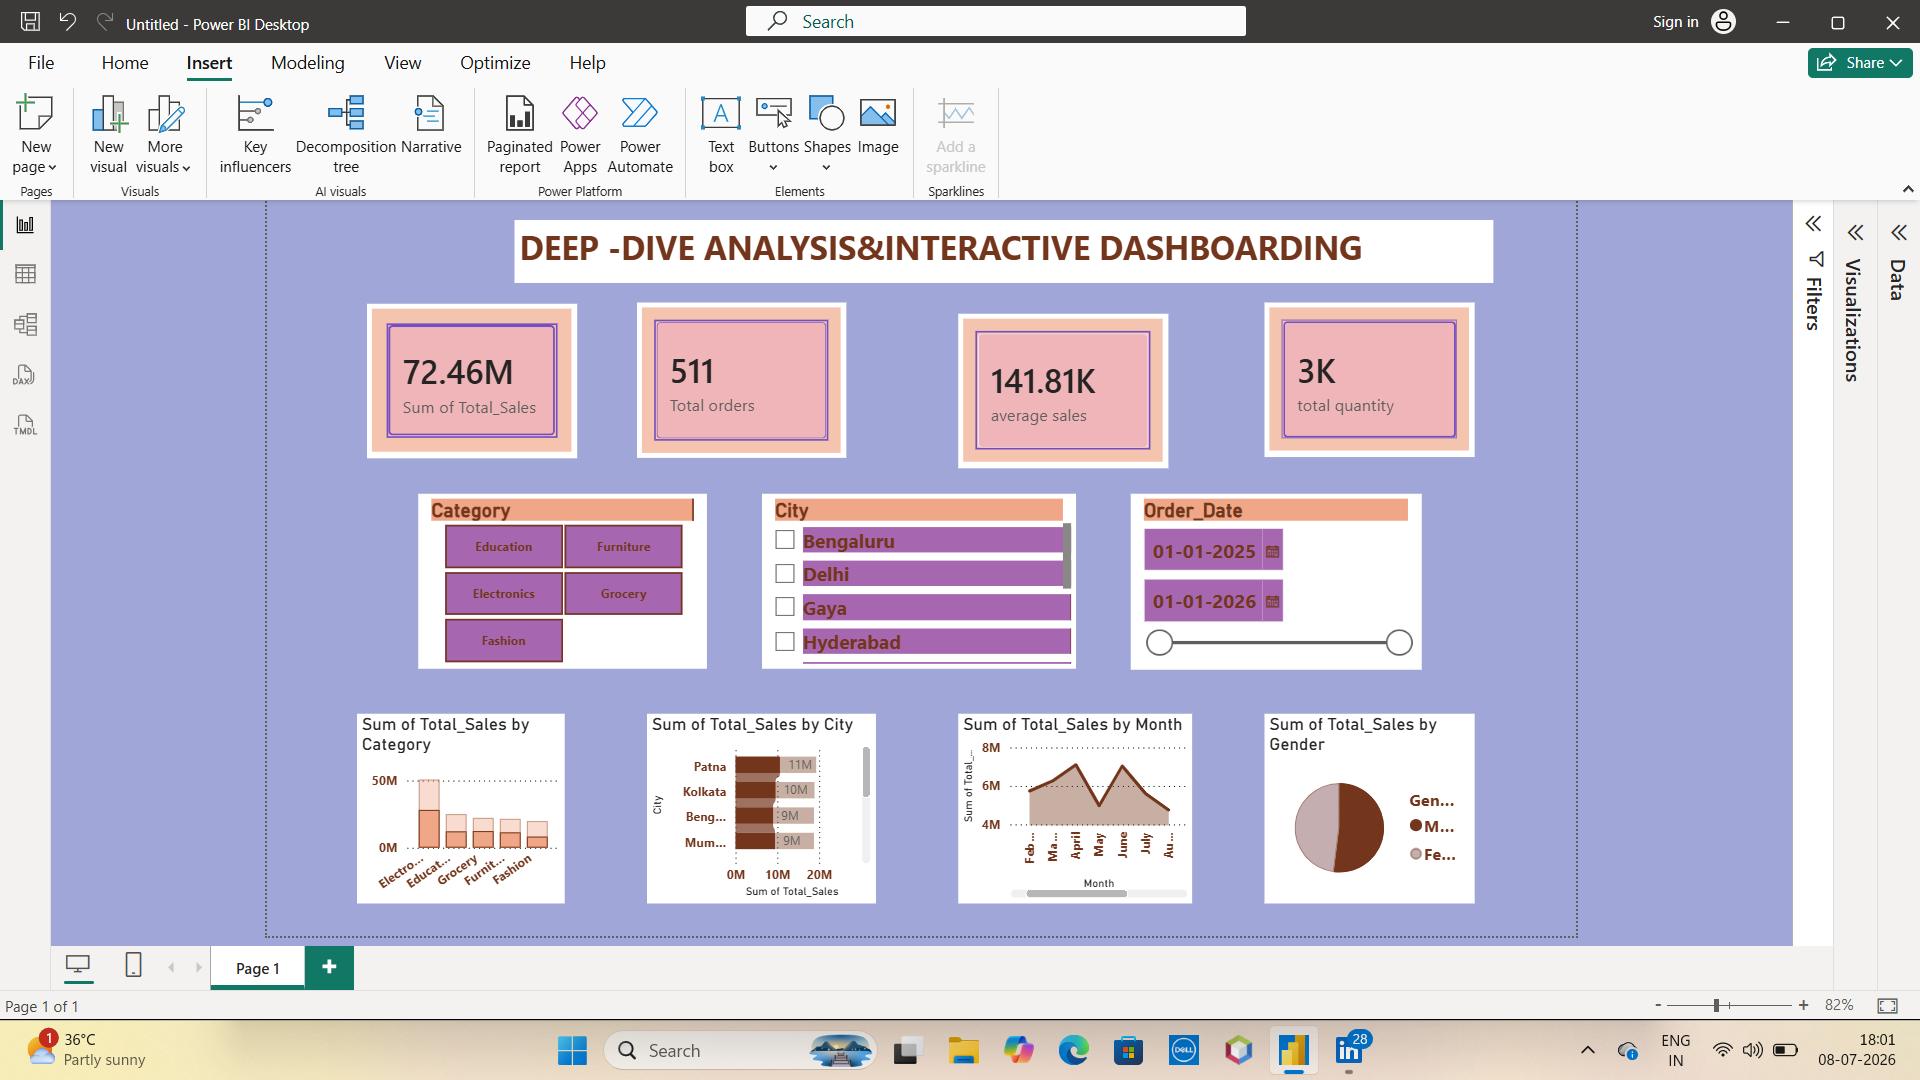

Layout of this report page (visuals, bound fields, positions):
{"tool":"powerbi","page":{"name":"Page 1","canvas":[1280,720],"ordinal":0},"visuals":[{"type":"cardVisual","fields":{"Data":["Sum(Sales_Dataset.Total_Sales)"]},"box":[106.4,102.7,183.4,150.4],"z":0},{"type":"cardVisual","fields":{"Data":["Sales_Dataset.Total orders"]},"box":[371.7,102.7,204.2,159],"z":1000},{"type":"cardVisual","fields":{"Data":["Sales_Dataset.average sales"]},"box":[676.2,102.7,206.7,159],"z":2000},{"type":"cardVisual","fields":{"Data":["Sales_Dataset.total quantity"]},"box":[975.6,100.2,205.8,150.9],"z":3000},{"type":"clusteredColumnChart","fields":{"Category":["Sales_Dataset.Category"],"Y":["Sum(Sales_Dataset.Total_Sales)"]},"box":[87.8,502.2,203.1,185.2],"z":4000},{"type":"barChart","fields":{"Category":["Sales_Dataset.City"],"Y":["Sum(Sales_Dataset.Total_Sales)"]},"box":[371.9,502.2,223.7,185.2],"z":5000},{"type":"lineChart","fields":{"Category":["Sales_Dataset.Order_Date.Variation.Date Hierarchy.Month"],"Y":["Sum(Sales_Dataset.Total_Sales)"]},"box":[676.5,502.2,229.2,185.2],"z":6000},{"type":"pieChart","fields":{"Category":["Sales_Dataset.Gender"],"Y":["Sum(Sales_Dataset.Total_Sales)"]},"box":[975.6,502.2,205.8,185.2],"z":7000},{"type":"slicer","fields":{"Values":["Sales_Dataset.Category"]},"box":[148.2,286.8,282.7,171.5],"z":8000},{"type":"slicer","fields":{"Values":["Sales_Dataset.City"]},"box":[484.4,286.8,307.4,171.5],"z":9000},{"type":"slicer","fields":{"Values":["Sales_Dataset.Order_Date"]},"box":[845.3,286.8,284,171.5],"z":10000},{"type":"textbox","box":[241.5,19.2,957.8,61.7],"z":11000}]}

Visuals, with their boxes on the page's 1280x720 design canvas (x1, y1, x2, y2). These are canvas units, not pixel positions in the 1920x1080 screenshot, which may show the page scaled, cropped or inside an application window:
cardVisual - Sum(Sales_Dataset.Total_Sales): [x1=106, y1=103, x2=290, y2=253]
cardVisual - Sales_Dataset.Total orders: [x1=372, y1=103, x2=576, y2=262]
cardVisual - Sales_Dataset.average sales: [x1=676, y1=103, x2=883, y2=262]
cardVisual - Sales_Dataset.total quantity: [x1=976, y1=100, x2=1181, y2=251]
clusteredColumnChart - Sales_Dataset.Category x Sum(Sales_Dataset.Total_Sales): [x1=88, y1=502, x2=291, y2=687]
barChart - Sales_Dataset.City x Sum(Sales_Dataset.Total_Sales): [x1=372, y1=502, x2=596, y2=687]
lineChart - Sales_Dataset.Order_Date.Variation.Date Hierarchy.Month x Sum(Sales_Dataset.Total_Sales): [x1=676, y1=502, x2=906, y2=687]
pieChart - Sales_Dataset.Gender x Sum(Sales_Dataset.Total_Sales): [x1=976, y1=502, x2=1181, y2=687]
slicer - Sales_Dataset.Category: [x1=148, y1=287, x2=431, y2=458]
slicer - Sales_Dataset.City: [x1=484, y1=287, x2=792, y2=458]
slicer - Sales_Dataset.Order_Date: [x1=845, y1=287, x2=1129, y2=458]
textbox: [x1=242, y1=19, x2=1199, y2=81]
